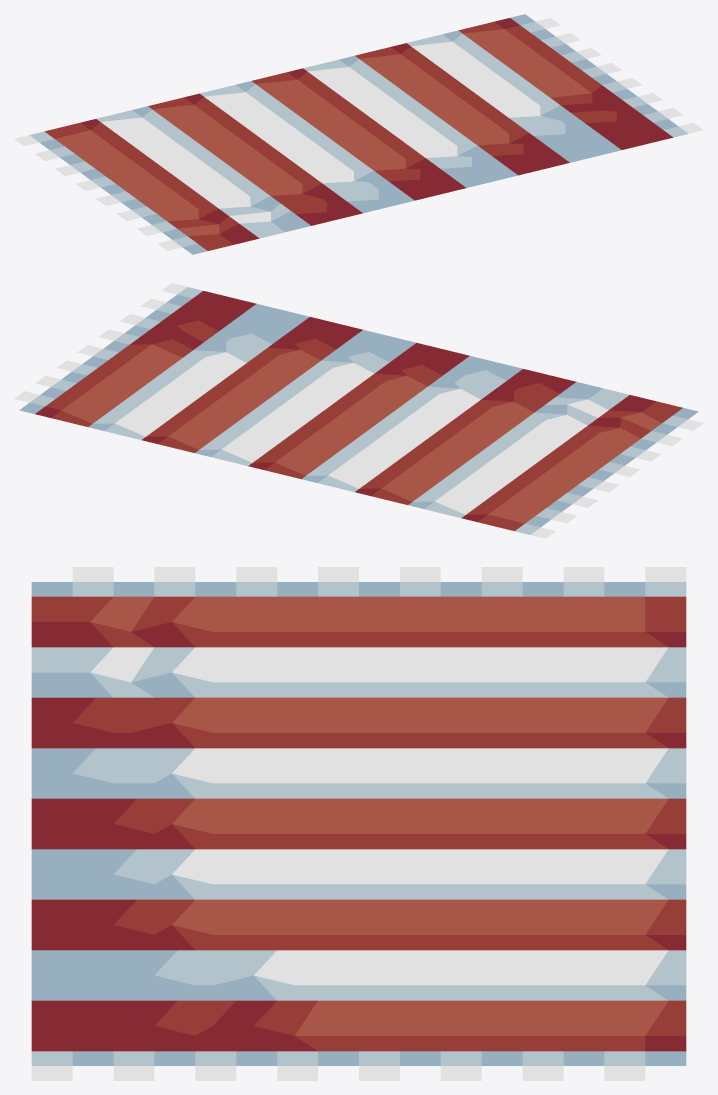
Rendered from gamblingCarpet.fbx.
The picture shows the model from 3 angles, top to bottom: view 1: azimuth 30°, elevation 25°; view 2: azimuth 150°, elevation 25°; view 3: azimuth 270°, elevation 25°; orthographic projection. The views are drawn at different scales.
Visible parts, largest first — view 1: car pet; view 2: car pet; view 3: car pet.
Boxes of the visible parts, x1,y1,x2,y2 form: car pet: (14,14,703,254); car pet: (14,283,703,538); car pet: (31,567,686,1080).
Bounding box in the file's own units: 325 × 0 × 175.
1 material, 1 textured.
